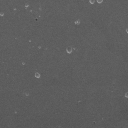corrosion: (63, 46, 73, 54), (32, 71, 40, 80), (72, 19, 80, 25), (88, 1, 96, 6), (24, 3, 30, 9), (96, 1, 103, 6), (124, 92, 128, 98)
